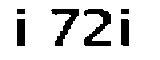2: (82, 8, 113, 51)
7: (48, 8, 80, 50)
i: (10, 4, 34, 54), (119, 4, 133, 54)
